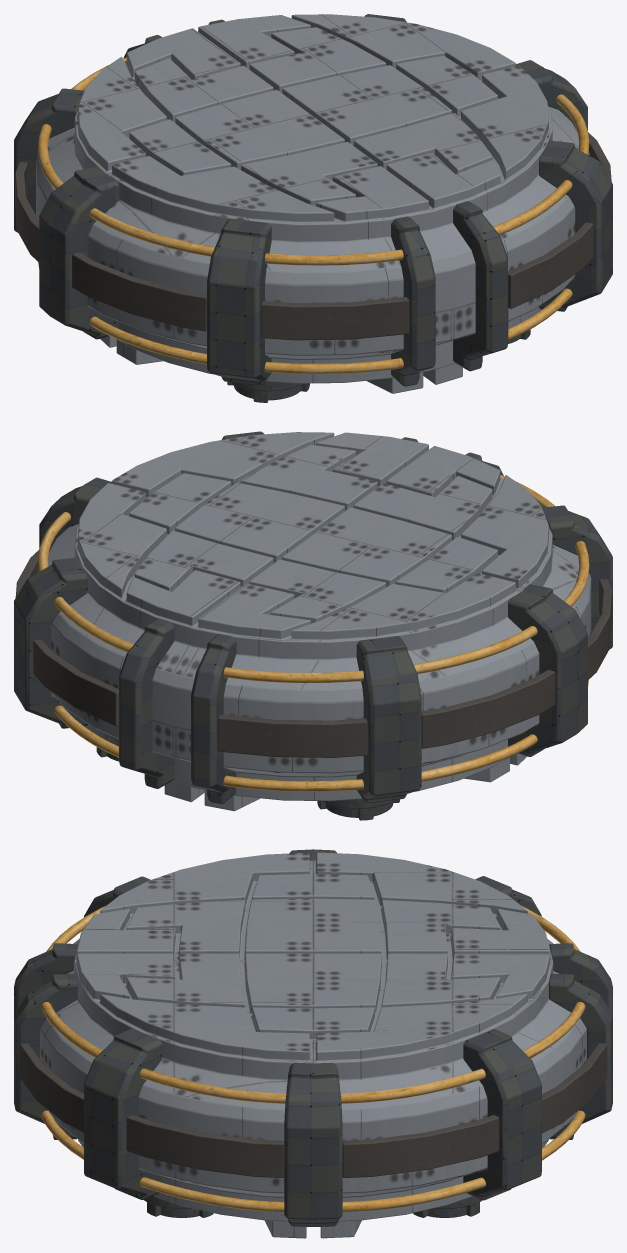
Rendered from MovingPlatformOne.fbx.
3 renders of one model, top to bottom at view 1: azimuth 30°, elevation 25°; view 2: azimuth 150°, elevation 25°; view 3: azimuth 270°, elevation 25°, orthographic.
Parts seen in each view (by area): view 1: Moving_Platform; view 2: Moving_Platform; view 3: Moving_Platform.
Part boxes in pixels (x1,y1,x2,y2): Moving_Platform: (14, 14, 612, 402); Moving_Platform: (14, 431, 612, 820); Moving_Platform: (14, 849, 612, 1238).
Size of the model in its own units: 4.35 by 4.26 by 1.55.
